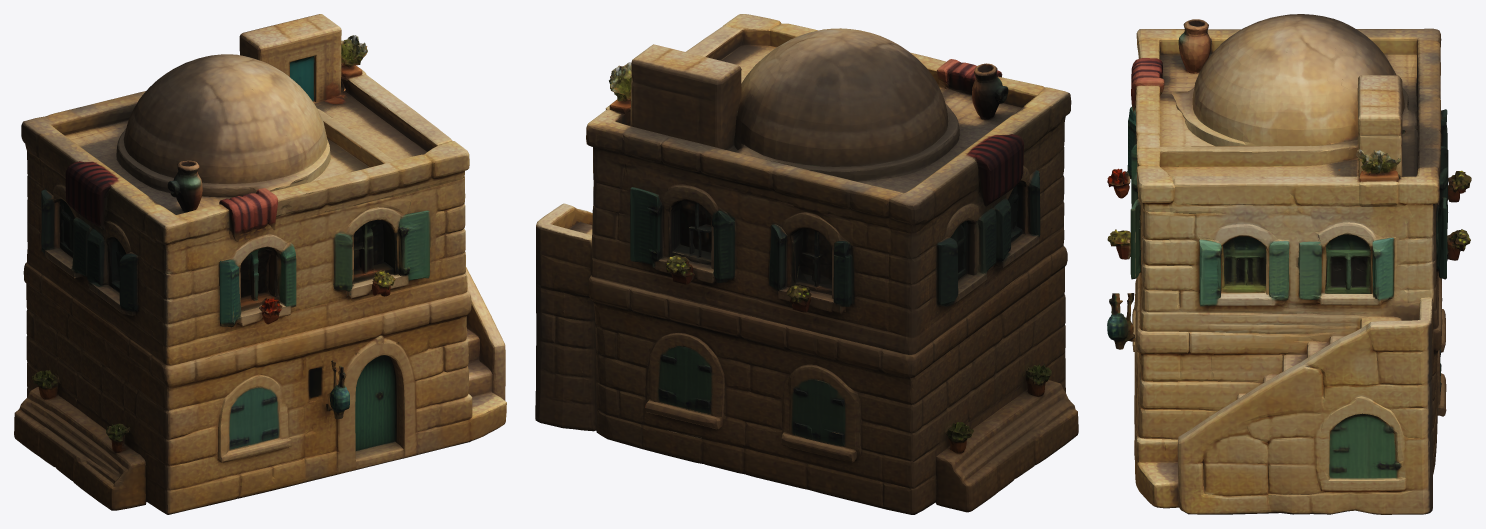
Rendered from bld_arab_stone_house.glb.
The picture shows the model from 3 angles, left to right: view 1: azimuth 30°, elevation 25°; view 2: azimuth 150°, elevation 25°; view 3: azimuth 270°, elevation 25°; orthographic projection. The views are drawn at different scales.
Parts seen in each view (by area): view 1: world; view 2: world; view 3: world.
Part boxes in pixels (x1=…): world: x1=14, y1=14, x2=506, y2=514; world: x1=535, y1=14, x2=1078, y2=514; world: x1=1107, y1=14, x2=1471, y2=514.
Bounding box in the file's own units: 0.9917 × 0.883 × 0.7631.
Materials: 1 (1 with a texture image).
